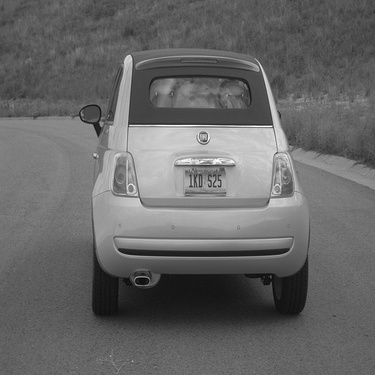car: (69, 41, 313, 321)
